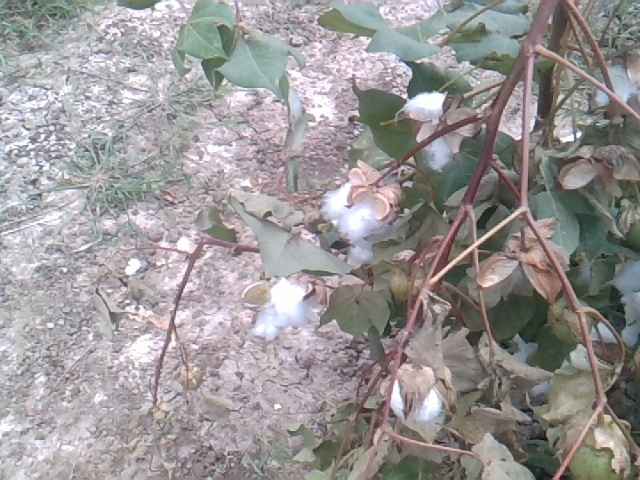cotton: (321, 161, 402, 263), (401, 93, 482, 173), (382, 363, 457, 447), (250, 278, 329, 341), (575, 313, 639, 360), (599, 256, 640, 327), (591, 63, 640, 119)
